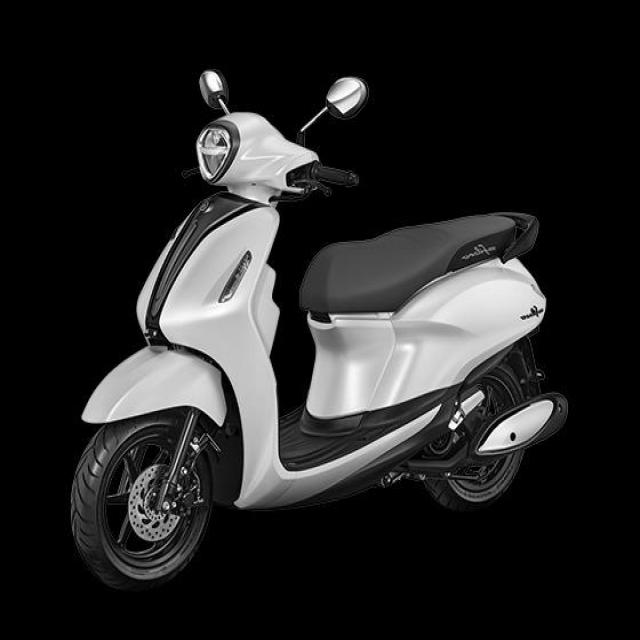Motorcycle: (71, 113, 569, 591)
